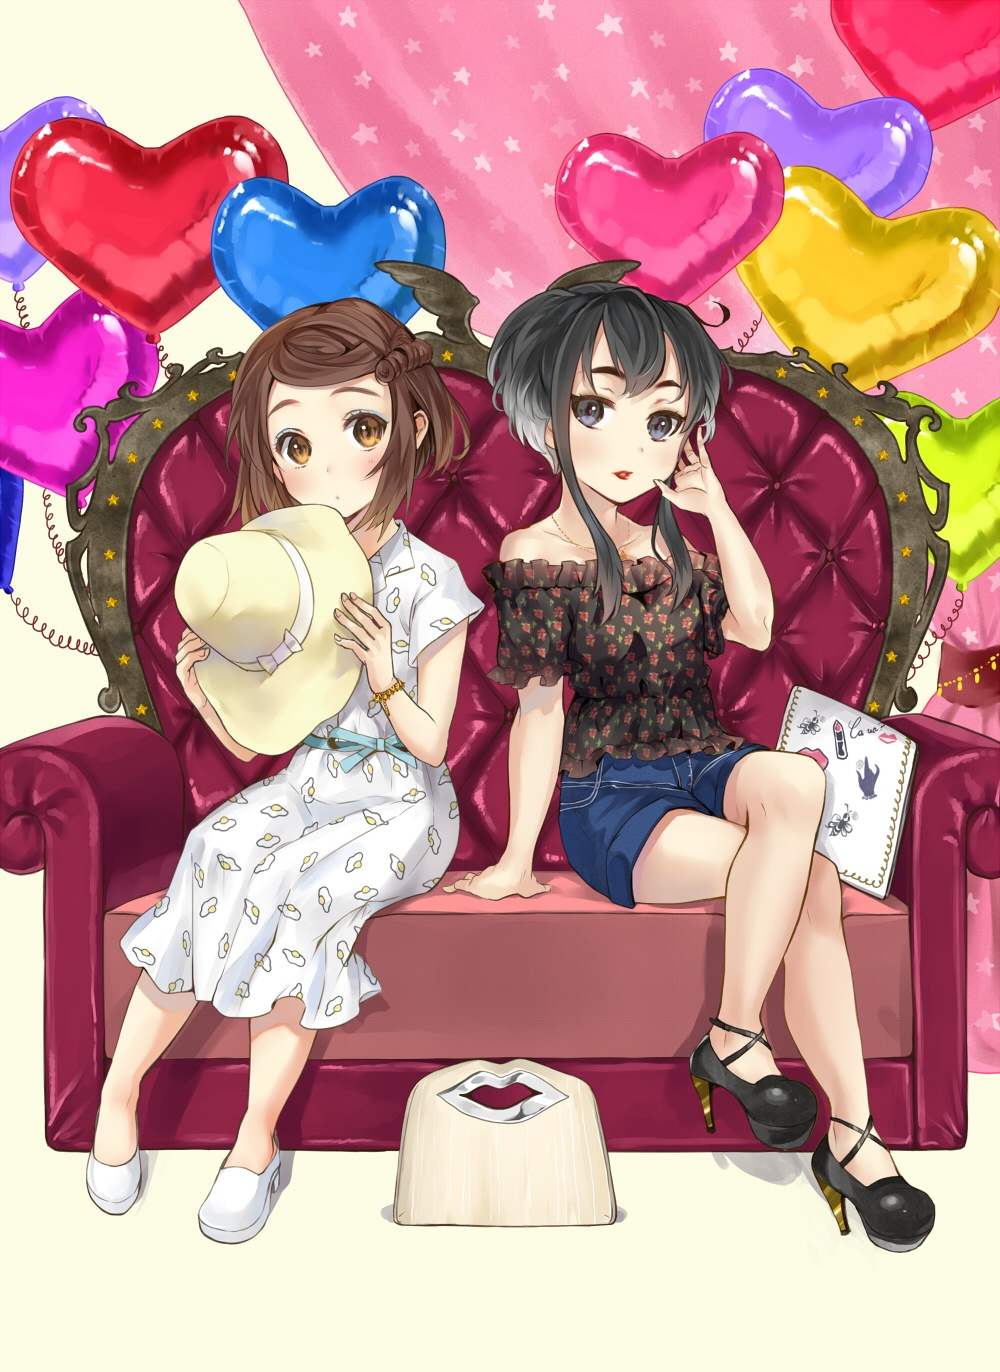纸片人正脸: (493, 268, 723, 506), (227, 292, 454, 530)
